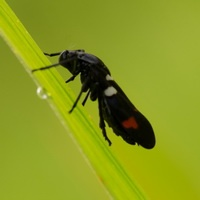insect: (32, 50, 154, 148)
